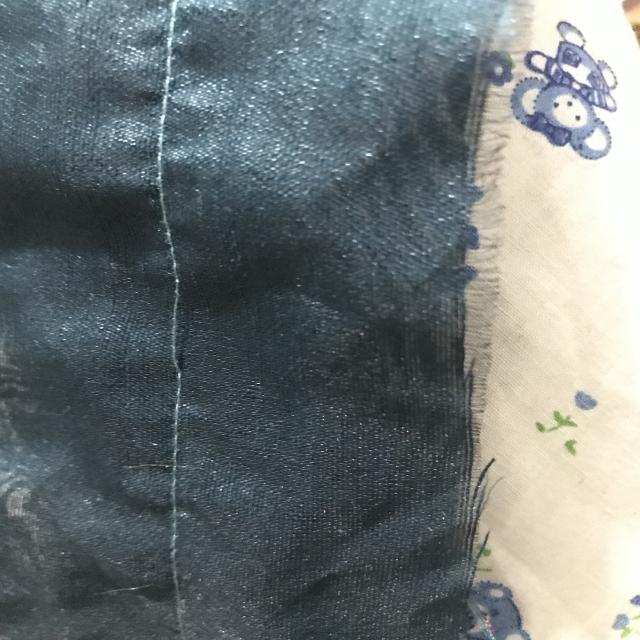good: (156, 402, 189, 456)
skip: (132, 272, 216, 388)
